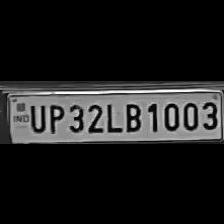0: (160, 98, 180, 130), (180, 98, 198, 130)
1: (144, 99, 160, 131)
2: (84, 99, 104, 133)
3: (64, 100, 84, 132), (200, 97, 218, 130)
B: (121, 99, 143, 131)
L: (102, 100, 120, 132)
P: (44, 100, 64, 134)
U: (27, 100, 46, 132)
